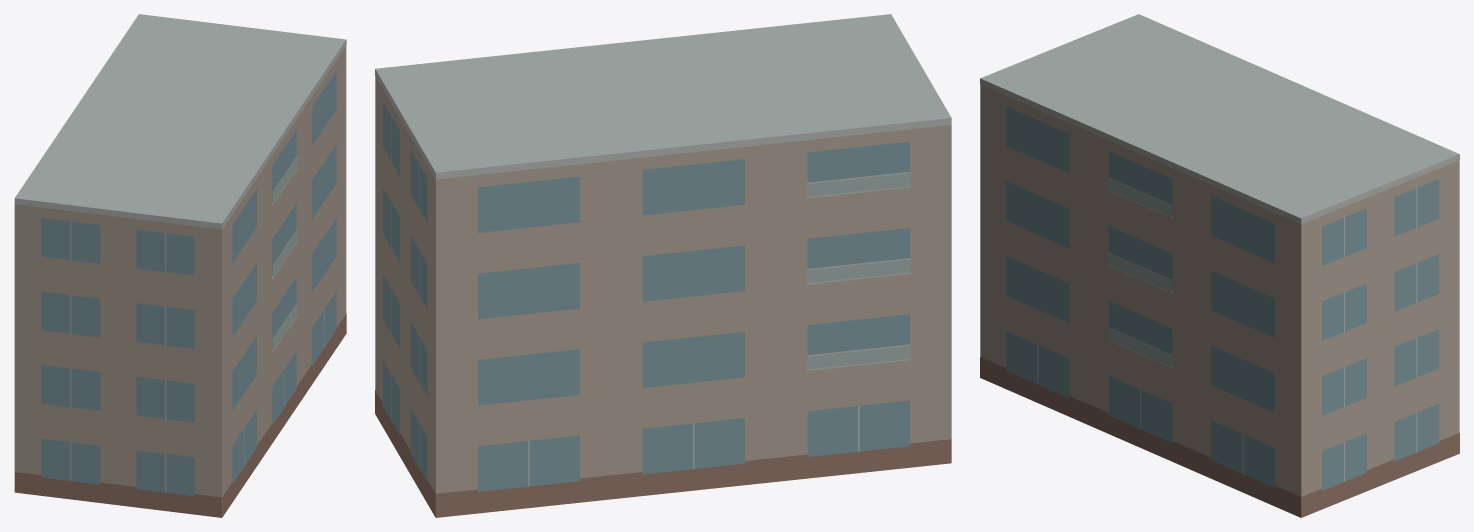
Rendered from survey-upis-32710584.glb.
3 renders of one model, left to right at view 1: azimuth 30°, elevation 25°; view 2: azimuth 150°, elevation 25°; view 3: azimuth 270°, elevation 25°, orthographic. The views are drawn at different scales.
Parts seen in each view (by area): view 1: survey-upis-32710584.tmp; view 2: survey-upis-32710584.tmp; view 3: survey-upis-32710584.tmp.
Boxes of the visible parts, left/top/right/bottom form: survey-upis-32710584.tmp: left=14, top=14, right=346, bottom=517; survey-upis-32710584.tmp: left=375, top=14, right=951, bottom=517; survey-upis-32710584.tmp: left=980, top=14, right=1459, bottom=517.
Size of the model in its own units: 17.87 by 12.2 by 17.72.
